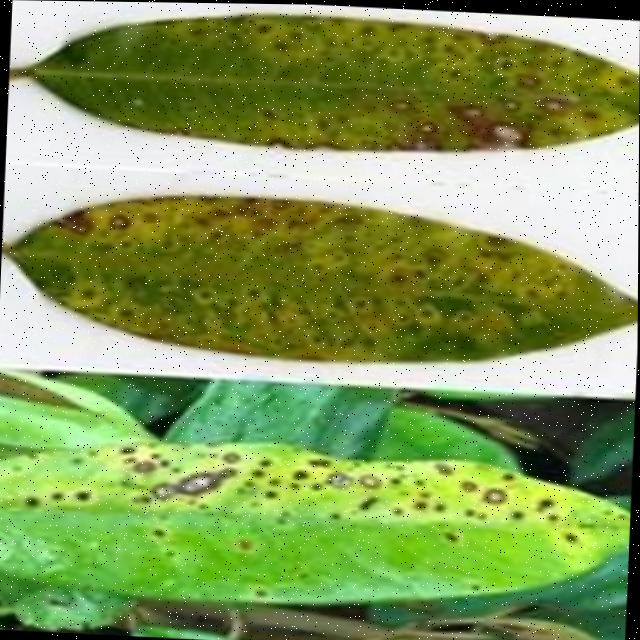Anthracnose: (0, 173, 639, 387), (5, 0, 613, 169), (309, 458, 459, 527), (106, 448, 238, 515), (231, 453, 311, 539), (515, 481, 603, 559), (0, 462, 101, 528), (411, 522, 478, 553), (468, 484, 517, 507)
